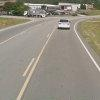Car: (53, 7, 73, 33)
